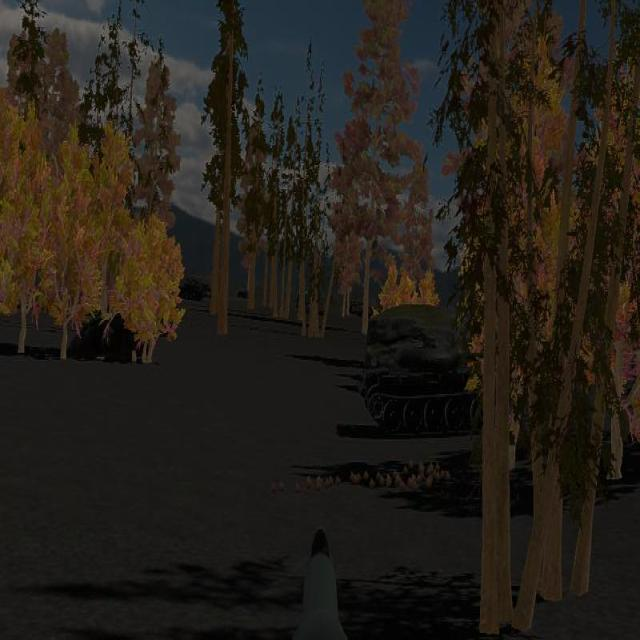Tank: (363, 333, 491, 439), (177, 272, 211, 304)
